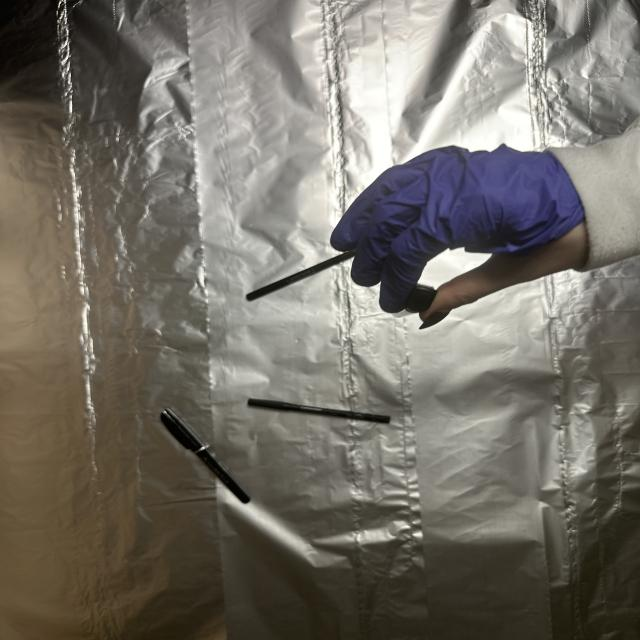glove_partial: (327, 142, 594, 336)
